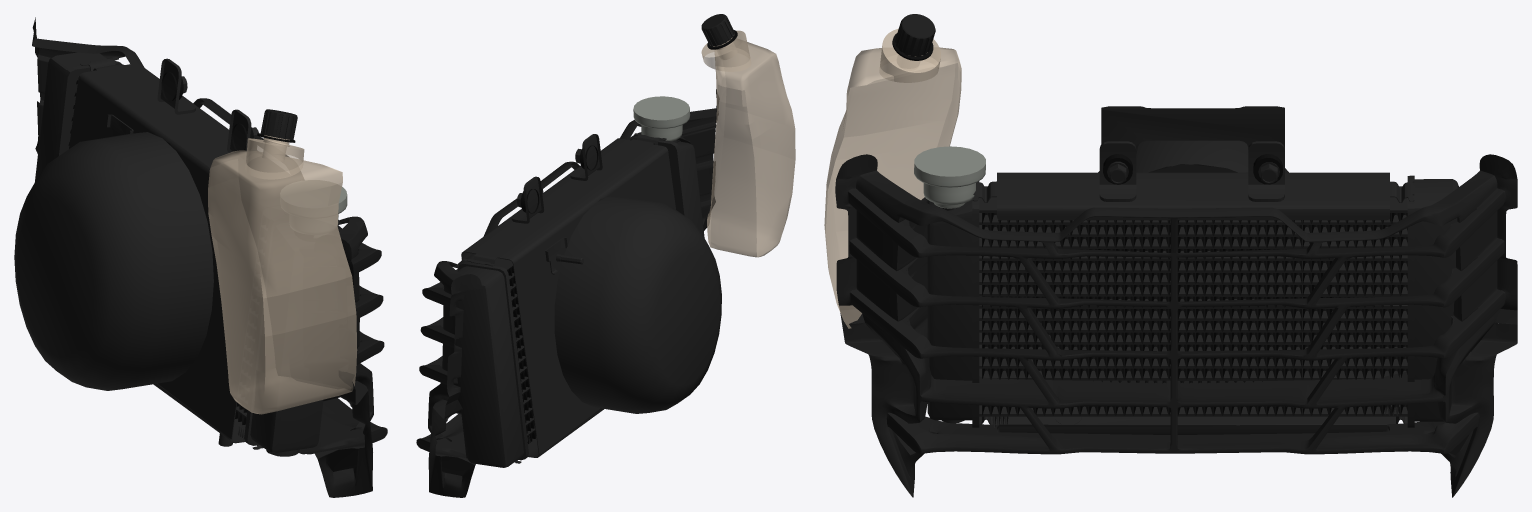
The model's file is Radiator.fbx.
The picture shows the model from 3 angles, left to right: view 1: azimuth 30°, elevation 25°; view 2: azimuth 150°, elevation 25°; view 3: azimuth 270°, elevation 25°; orthographic projection. The views are drawn at different scales.
Visible parts, largest first — view 1: Radiator_Grill, Coolant_Box, RadiatorCover, Radiator_Cap, Coolant_Cap; view 2: Radiator_Grill, Coolant_Box, RadiatorCover, Radiator_Cap, Coolant_Cap; view 3: Radiator_Grill, RadiatorCover, Coolant_Box, Radiator_Cap, Coolant_Cap.
Boxes of the visible parts, x1,y1,x2,y2 form: Radiator_Grill: (14, 52, 332, 456); Coolant_Box: (208, 135, 357, 414); RadiatorCover: (32, 17, 387, 497); Radiator_Cap: (280, 180, 347, 237); Coolant_Cap: (260, 109, 297, 139); Radiator_Grill: (455, 133, 721, 467); Coolant_Box: (701, 30, 795, 257); RadiatorCover: (416, 89, 718, 497); Radiator_Cap: (633, 96, 690, 141); Coolant_Cap: (701, 14, 734, 46); Radiator_Grill: (927, 106, 1458, 434); RadiatorCover: (835, 154, 1517, 497); Coolant_Box: (824, 28, 961, 328); Radiator_Cap: (914, 146, 985, 208); Coolant_Cap: (895, 14, 935, 56).
Size of the model in its own units: 15.28 by 27.89 by 40.49.
